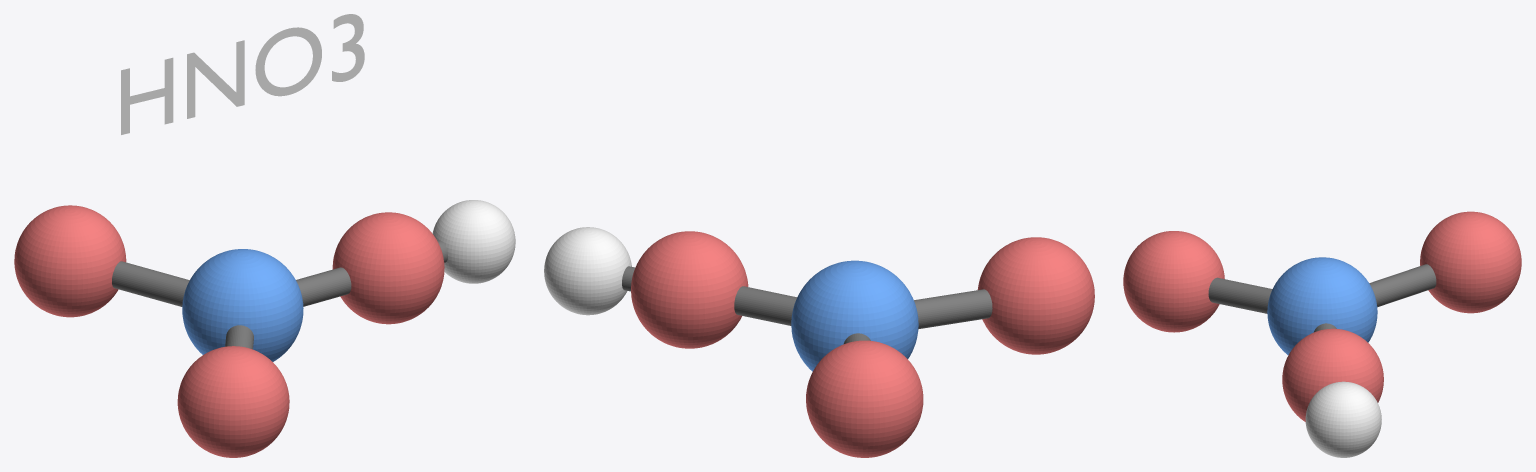
Rendered from HNO3.glb.
3 views of the same model, side by side, from view 1: azimuth 30°, elevation 25°; view 2: azimuth 150°, elevation 25°; view 3: azimuth 270°, elevation 25° (orthographic). The views are drawn at different scales.
Parts seen in each view (by area): view 1: N, O3, O2, O1, Label_HNO3, H, Bond_N_O2, Bond_N_O1, Bond_N_O3; view 2: O2, O1, O3, N, H, Bond_N_O3, Bond_N_O1; view 3: O2, O3, N, O1, H, Bond_N_O2, Bond_N_O3.
Boxes of the visible parts, bbox=[...] form: N: bbox=[182, 249, 303, 361]; O3: bbox=[177, 346, 289, 457]; O2: bbox=[14, 205, 126, 317]; O1: bbox=[332, 212, 444, 324]; Label_HNO3: bbox=[121, 14, 364, 134]; H: bbox=[432, 200, 515, 283]; Bond_N_O2: bbox=[112, 261, 189, 306]; Bond_N_O1: bbox=[296, 267, 351, 306]; Bond_N_O3: bbox=[225, 325, 253, 349]; O2: bbox=[806, 340, 923, 457]; O1: bbox=[631, 231, 748, 348]; O3: bbox=[977, 237, 1094, 354]; N: bbox=[791, 260, 918, 371]; H: bbox=[544, 227, 631, 315]; Bond_N_O3: bbox=[914, 289, 992, 329]; Bond_N_O1: bbox=[734, 286, 796, 325]; O2: bbox=[1420, 211, 1521, 313]; O3: bbox=[1123, 231, 1224, 332]; N: bbox=[1267, 257, 1377, 355]; O1: bbox=[1282, 328, 1383, 421]; H: bbox=[1305, 381, 1381, 457]; Bond_N_O2: bbox=[1369, 264, 1436, 307]; Bond_N_O3: bbox=[1208, 277, 1272, 313].
Size of the model in its own units: 2.07 by 1.57 by 1.88.
